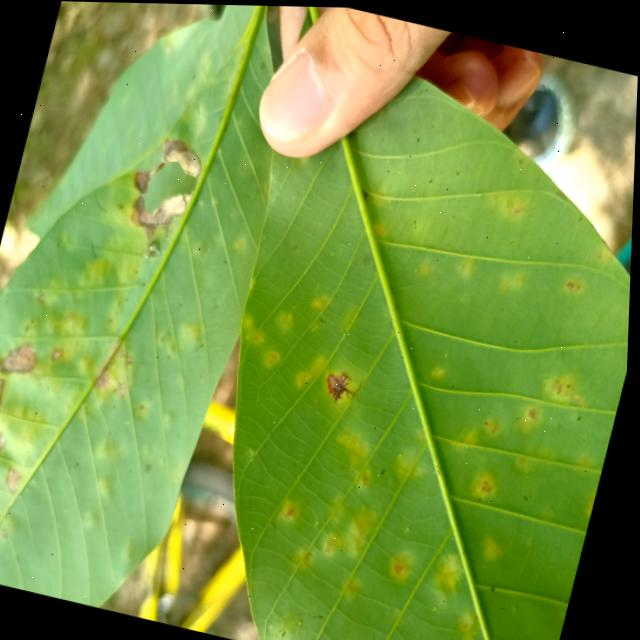Corynespora: (324, 365, 367, 405)
Leaf-Blight: (133, 129, 208, 202), (127, 178, 195, 245), (0, 370, 23, 453), (0, 336, 44, 379), (7, 466, 25, 492)
